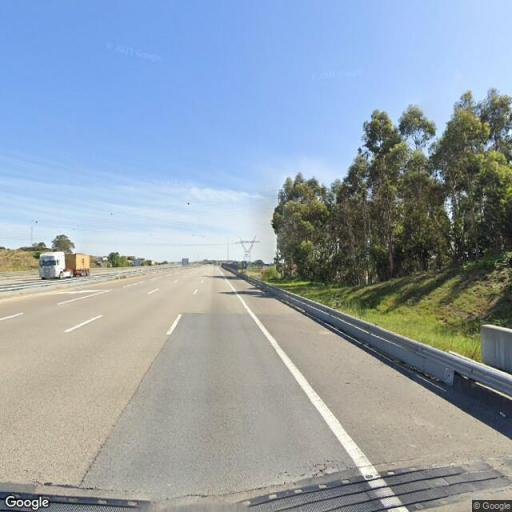wt_5: (237, 233, 261, 267)
